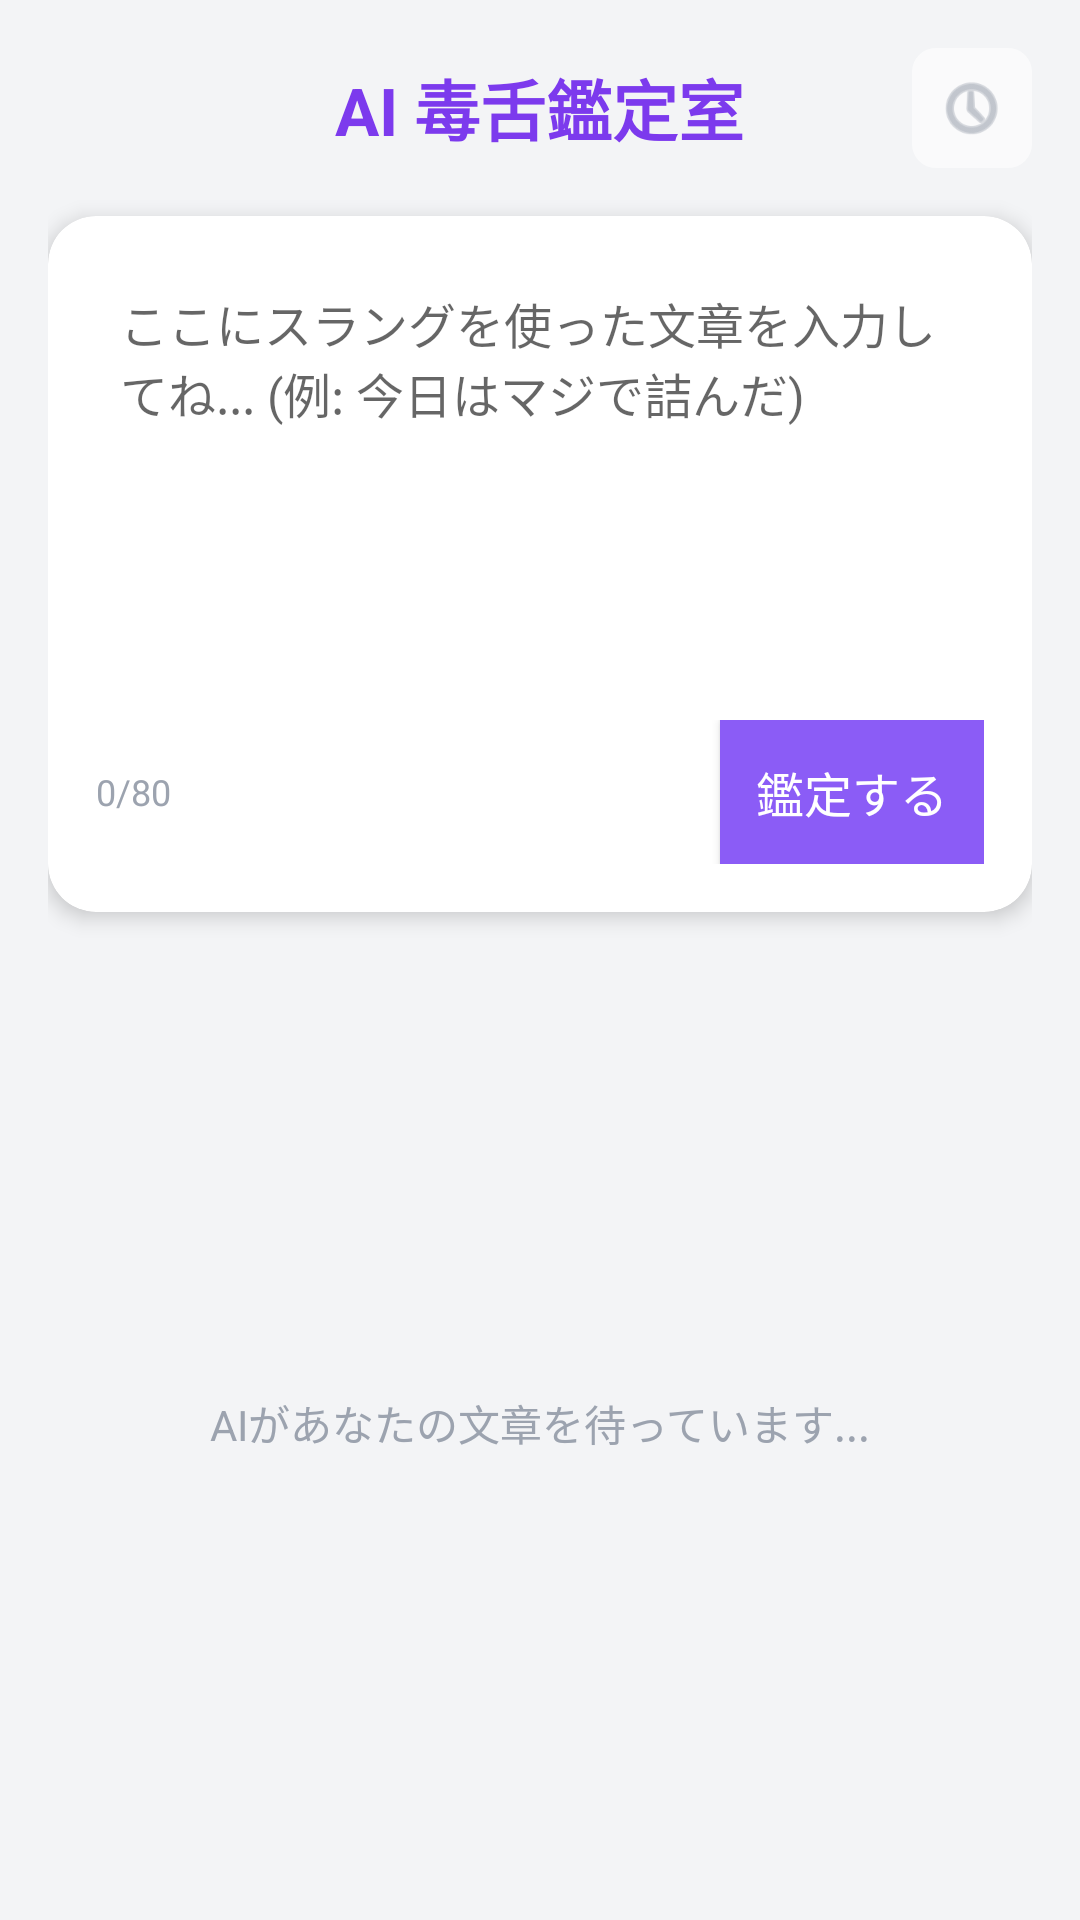

Icon bounding boxes for this 1080*1920 phone screenshot, format [x1=x1, y1=y1, x2=x2, y2=y2]:
recent history: [x1=946, y1=83, x2=997, y2=134]
